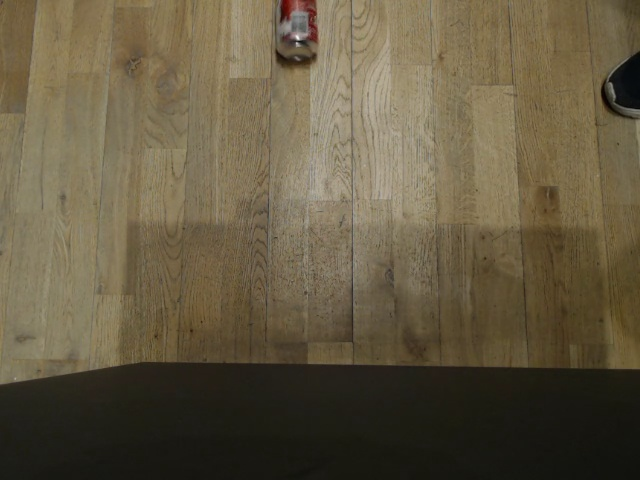cola: (268, 0, 323, 66)
